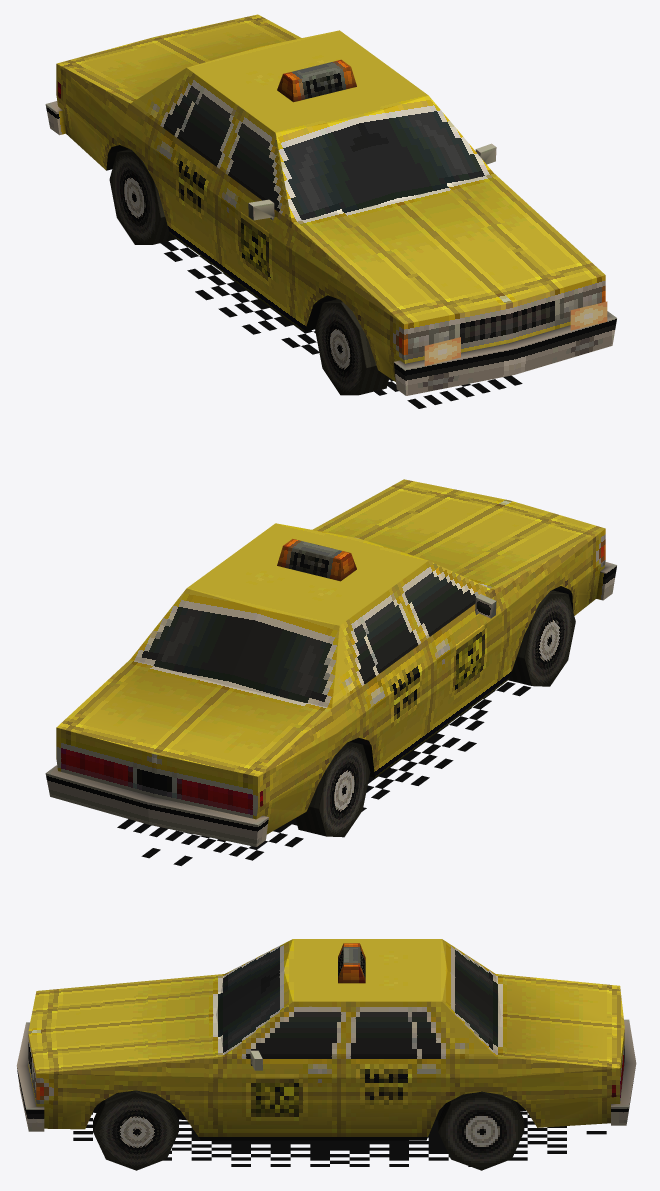
File: taxi.glb
3 views of the same model, one above another, from view 1: azimuth 30°, elevation 25°; view 2: azimuth 150°, elevation 25°; view 3: azimuth 270°, elevation 25° (orthographic). The views are drawn at different scales.
Visible parts, largest first — view 1: Body, BlobShadow, Headlight_1, Headlight_-1; view 2: Body, BlobShadow; view 3: Body, BlobShadow.
Boxes of the visible parts, <box> form: Body: <box>45,14,616,395</box>; BlobShadow: <box>160,239,522,408</box>; Headlight_1: <box>570,301,607,330</box>; Headlight_-1: <box>424,337,460,365</box>; Body: <box>45,479,616,846</box>; BlobShadow: <box>117,682,530,865</box>; Body: <box>16,939,636,1170</box>; BlobShadow: <box>73,1111,606,1166</box>.
Size of what is drawn, in the model's own units: 2.1 by 1.62 by 5.36.
Materials: 3 (3 with a texture image).
